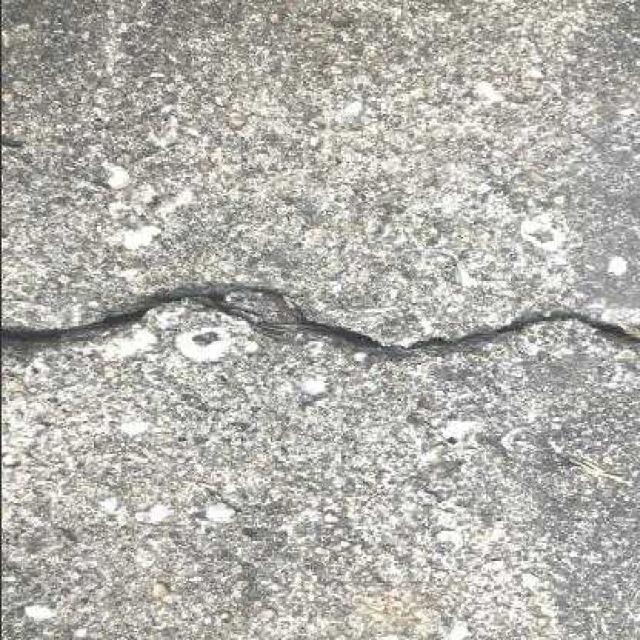D00: (0, 283, 640, 354)
